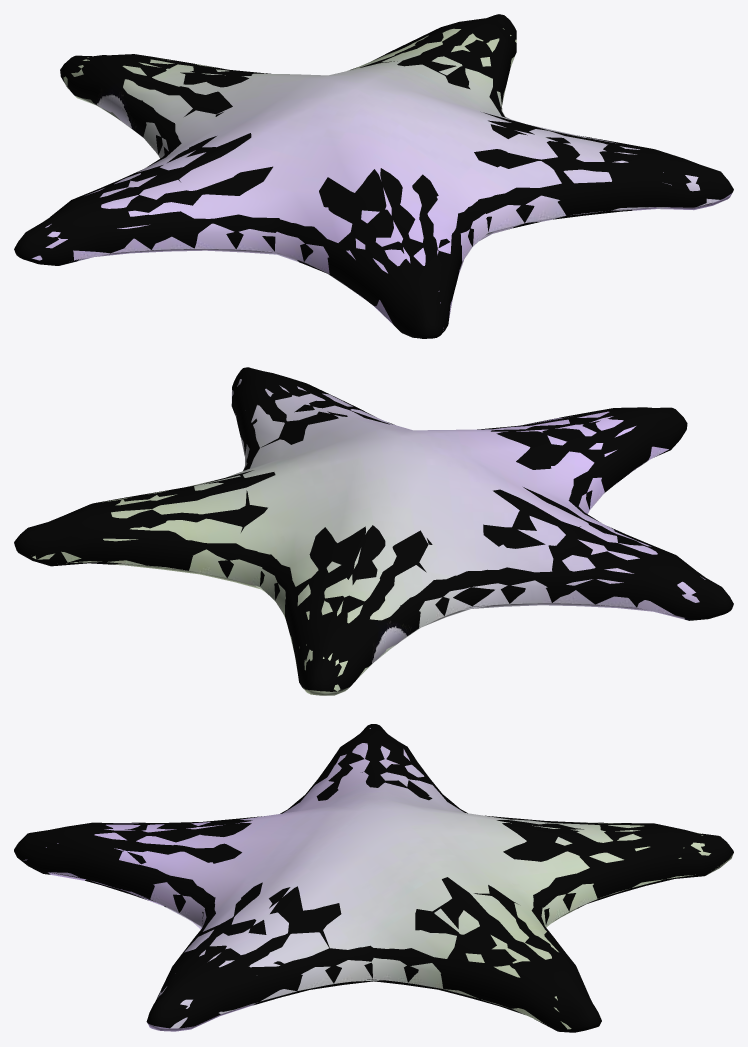
The model's file is starfish_Keiko.glb.
The picture shows the model from 3 angles, top to bottom: view 1: azimuth 30°, elevation 25°; view 2: azimuth 150°, elevation 25°; view 3: azimuth 270°, elevation 25°; orthographic projection. The views are drawn at different scales.
Parts seen in each view (by area): view 1: Retopo_model_1, model_1; view 2: Retopo_model_1, model_1; view 3: Retopo_model_1, model_1.
Part boxes in pixels (<box>): Retopo_model_1: <box>32,28,719,330</box>; model_1: <box>14,14,733,338</box>; Retopo_model_1: <box>32,379,705,691</box>; model_1: <box>14,367,733,695</box>; Retopo_model_1: <box>23,728,710,1029</box>; model_1: <box>14,724,733,1032</box>.
Bounding box in the file's own units: 0.655 × 0.1081 × 0.6881.
Materials: 1 (1 with a texture image).
